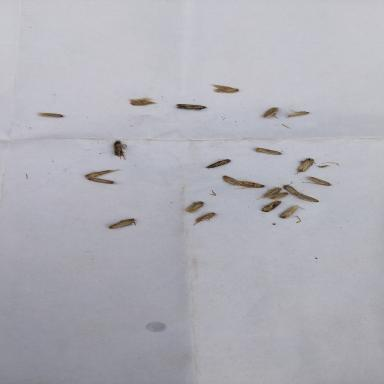pbw: (107, 140, 127, 161), (294, 158, 315, 175), (108, 218, 137, 230), (256, 187, 282, 200), (192, 212, 216, 226), (84, 169, 120, 178), (279, 204, 299, 218), (128, 96, 156, 106), (304, 176, 332, 186), (282, 182, 301, 196), (204, 158, 230, 168), (234, 181, 264, 189), (262, 200, 281, 212), (175, 104, 207, 111), (186, 201, 204, 213), (212, 85, 238, 93), (253, 148, 282, 155), (222, 176, 242, 186), (266, 192, 289, 200), (262, 107, 278, 118), (287, 109, 309, 117), (86, 178, 114, 184), (298, 194, 318, 202), (38, 113, 63, 117)
